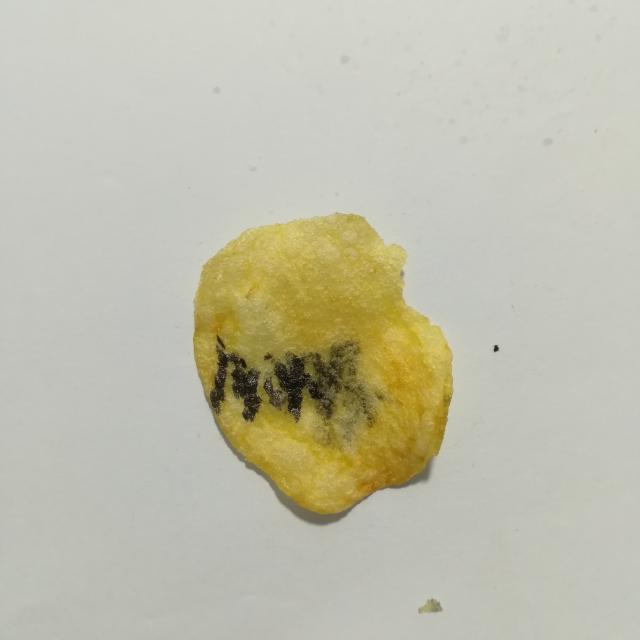chip: (193, 214, 452, 513)
damaged: (263, 340, 371, 422), (210, 337, 262, 422)
semi-damaged: (322, 391, 374, 443)
